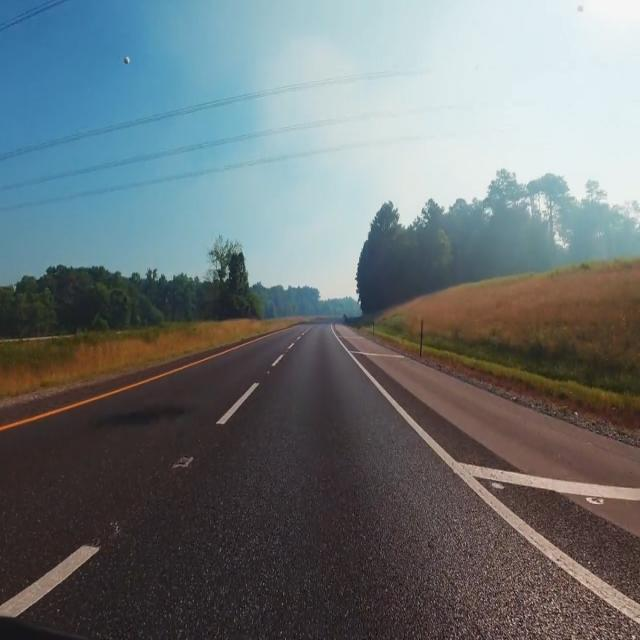asphalt: (0, 325, 640, 639)
grass: (376, 258, 640, 426), (0, 318, 296, 399)
